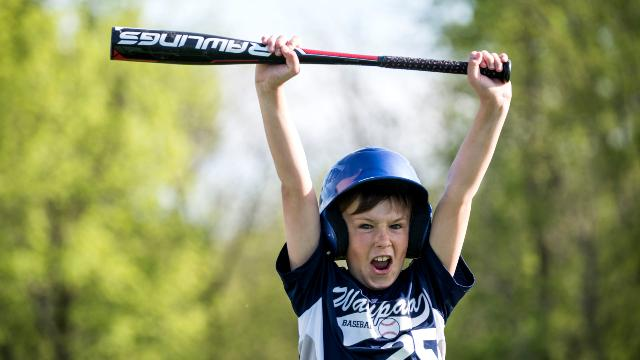baseball bat: (106, 26, 514, 80)
